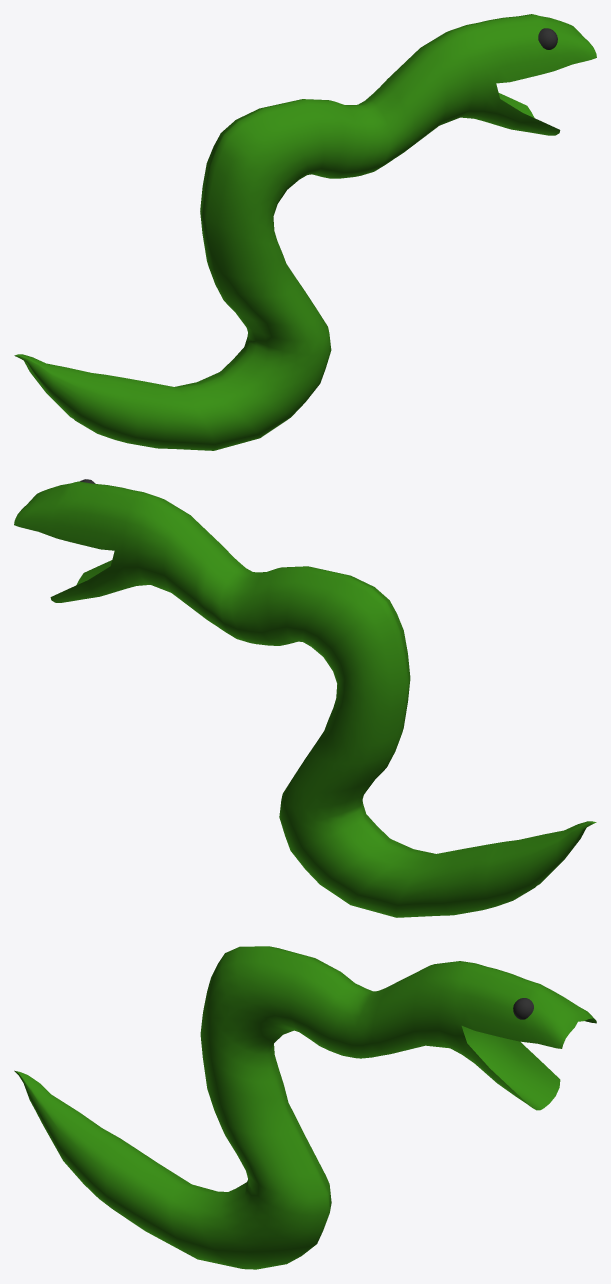
The model's file is snake.fbx.
The picture shows the model from 3 angles, top to bottom: view 1: azimuth 30°, elevation 25°; view 2: azimuth 150°, elevation 25°; view 3: azimuth 330°, elevation 25°; orthographic projection.
Visible parts, largest first — view 1: pCylinder4; view 2: pCylinder4; view 3: pCylinder4.
Part boxes in pixels (<box>): pCylinder4: <box>14,14,596,450</box>; pCylinder4: <box>14,479,596,917</box>; pCylinder4: <box>14,946,596,1269</box>.
Size of the model in its own units: 13.06 by 7.93 by 1.58.
